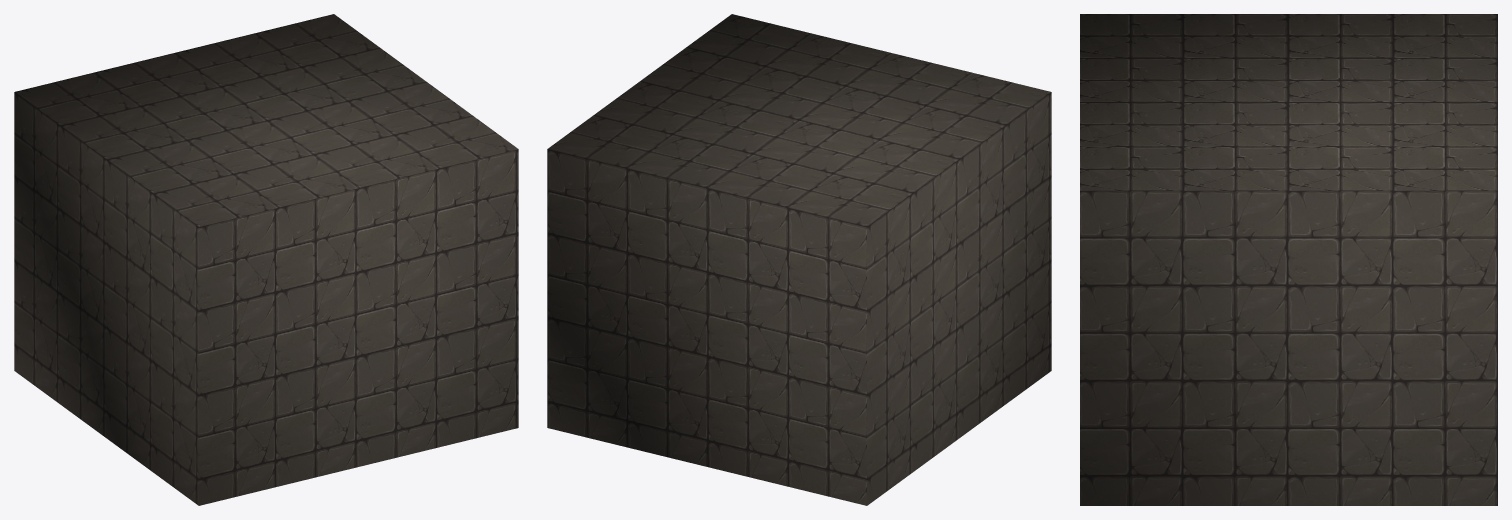
File: sn_longmai_baseframe_001.FBX
The picture shows the model from 3 angles, left to right: view 1: azimuth 30°, elevation 25°; view 2: azimuth 150°, elevation 25°; view 3: azimuth 270°, elevation 25°; orthographic projection. The views are drawn at different scales.
Visible parts, largest first — view 1: sn_longmai_baseframe_001; view 2: sn_longmai_baseframe_001; view 3: sn_longmai_baseframe_001.
Boxes of the visible parts, x1=… form: sn_longmai_baseframe_001: x1=14, y1=14, x2=518, y2=505; sn_longmai_baseframe_001: x1=547, y1=14, x2=1051, y2=505; sn_longmai_baseframe_001: x1=1080, y1=14, x2=1497, y2=505.
Bounding box in the file's own units: 1200 × 1000 × 1200.
